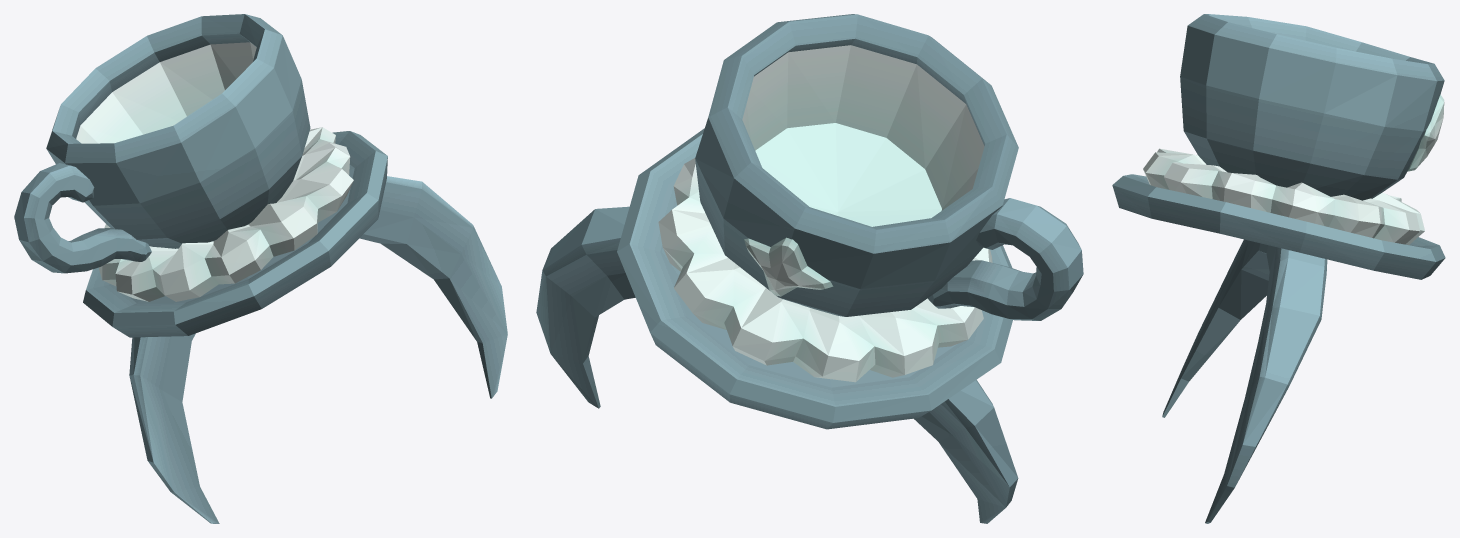
The model's file is CharSkyKid_Horn_PastryTea.glb.
3 views of the same model, side by side, from view 1: azimuth 30°, elevation 25°; view 2: azimuth 150°, elevation 25°; view 3: azimuth 270°, elevation 25° (orthographic). The views are drawn at different scales.
Parts seen in each view (by area): view 1: CharSkyKid_Horn_PastryTea; view 2: CharSkyKid_Horn_PastryTea; view 3: CharSkyKid_Horn_PastryTea.
Boxes of the visible parts, bbox=[...] form: CharSkyKid_Horn_PastryTea: bbox=[14, 14, 507, 523]; CharSkyKid_Horn_PastryTea: bbox=[536, 14, 1083, 523]; CharSkyKid_Horn_PastryTea: bbox=[1112, 14, 1445, 523].
Bounding box in the file's own units: 3.01 × 2.68 × 1.86.
Materials: 1 (1 with a texture image).
